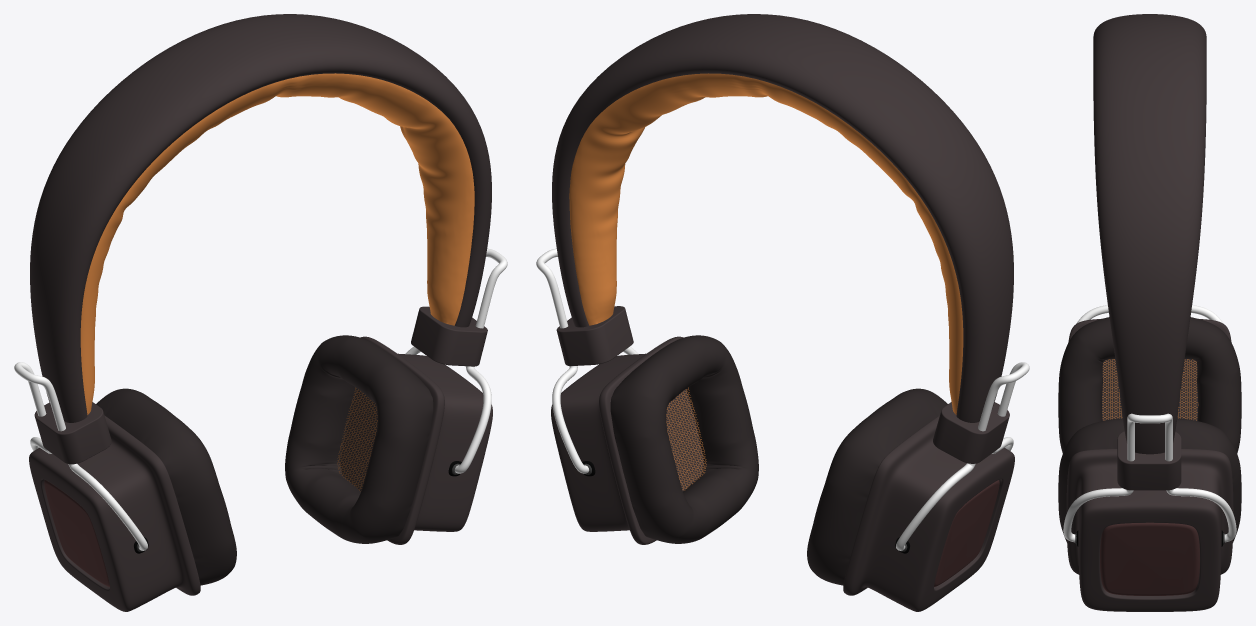
File: Headset.fbx
3 views of the same model, side by side, from view 1: azimuth 30°, elevation 25°; view 2: azimuth 150°, elevation 25°; view 3: azimuth 270°, elevation 25° (orthographic). The views are drawn at different scales.
Visible parts, largest first — view 1: head holding plastic, ear cushion, main holder, head cushion, plastic, adjusting bar, side cover, inner filter; view 2: head holding plastic, ear cushion, main holder, head cushion, plastic, adjusting bar, side cover, inner filter; view 3: head holding plastic, main holder, ear cushion, side cover, adjusting bar, plastic, inner filter.
Boxes of the visible parts, x1,y1,x2,y2 form: head holding plastic: [30, 14, 491, 422]; ear cushion: [96, 335, 433, 585]; main holder: [29, 336, 492, 611]; head cushion: [80, 73, 474, 414]; plastic: [34, 306, 487, 464]; adjusting bar: [14, 248, 507, 550]; side cover: [44, 480, 109, 586]; inner filter: [337, 387, 377, 491]; head holding plastic: [552, 14, 1013, 422]; ear cushion: [610, 335, 947, 585]; main holder: [551, 336, 1014, 611]; head cushion: [569, 73, 963, 414]; plastic: [556, 306, 1009, 463]; adjusting bar: [536, 248, 1029, 550]; side cover: [934, 480, 999, 586]; inner filter: [666, 387, 706, 490]; head holding plastic: [1093, 14, 1206, 454]; main holder: [1066, 318, 1233, 611]; ear cushion: [1058, 317, 1241, 542]; side cover: [1100, 522, 1199, 595]; adjusting bar: [1063, 305, 1236, 542]; plastic: [1117, 431, 1181, 490]; inner filter: [1102, 359, 1198, 420].
Size of the model in its own units: 20.55 by 21.28 by 7.11.
